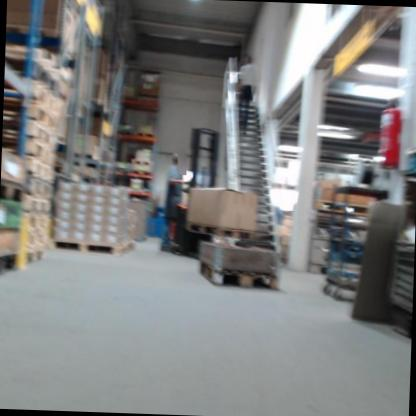pallet: (199, 260, 280, 291), (53, 237, 137, 257), (185, 219, 256, 241), (311, 198, 373, 217), (36, 110, 63, 134), (36, 91, 65, 111), (30, 180, 55, 200), (34, 147, 57, 168), (29, 199, 54, 218), (35, 133, 62, 148), (26, 234, 49, 251), (28, 218, 49, 235), (31, 167, 57, 180), (25, 250, 47, 265), (130, 158, 153, 166), (134, 130, 154, 139), (129, 169, 152, 176)
pallet_truck: (163, 121, 223, 259)
stillage: (309, 203, 364, 241)
